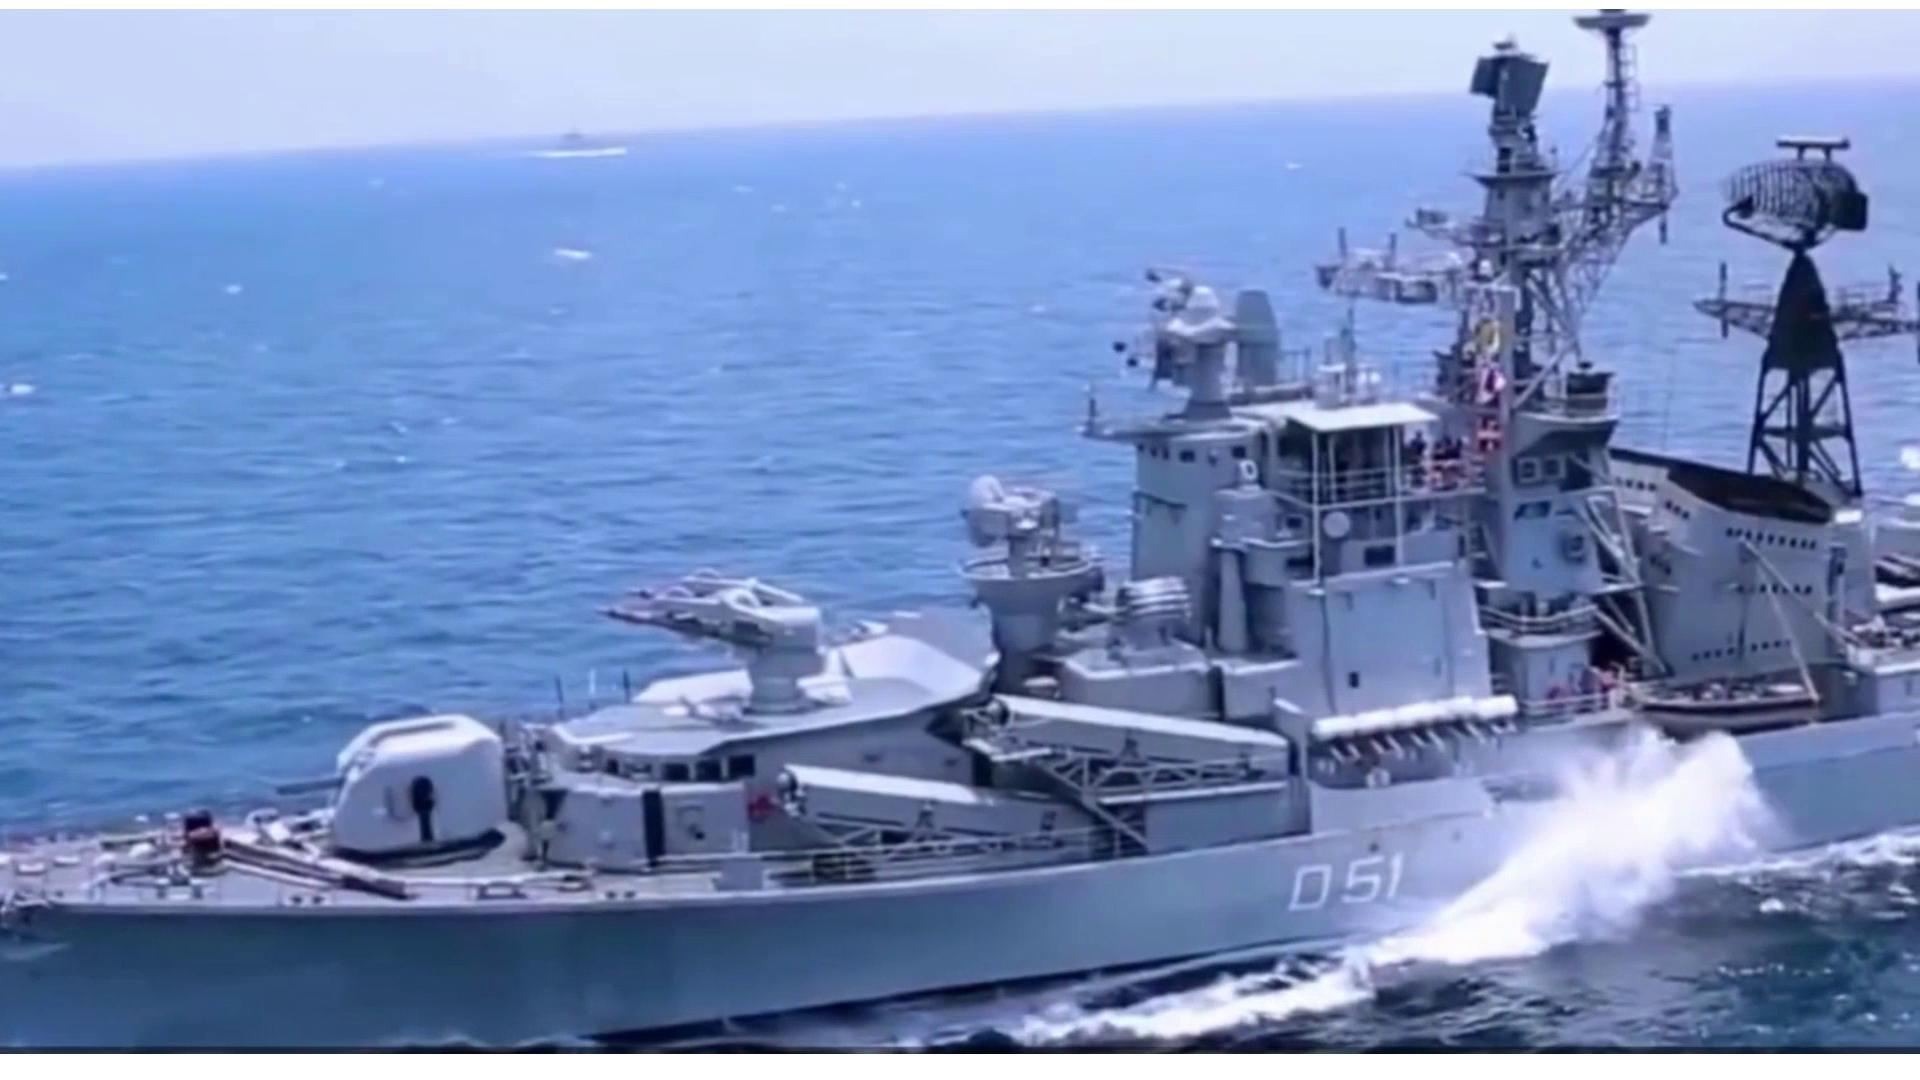OCR: (1273, 840, 1412, 926)
